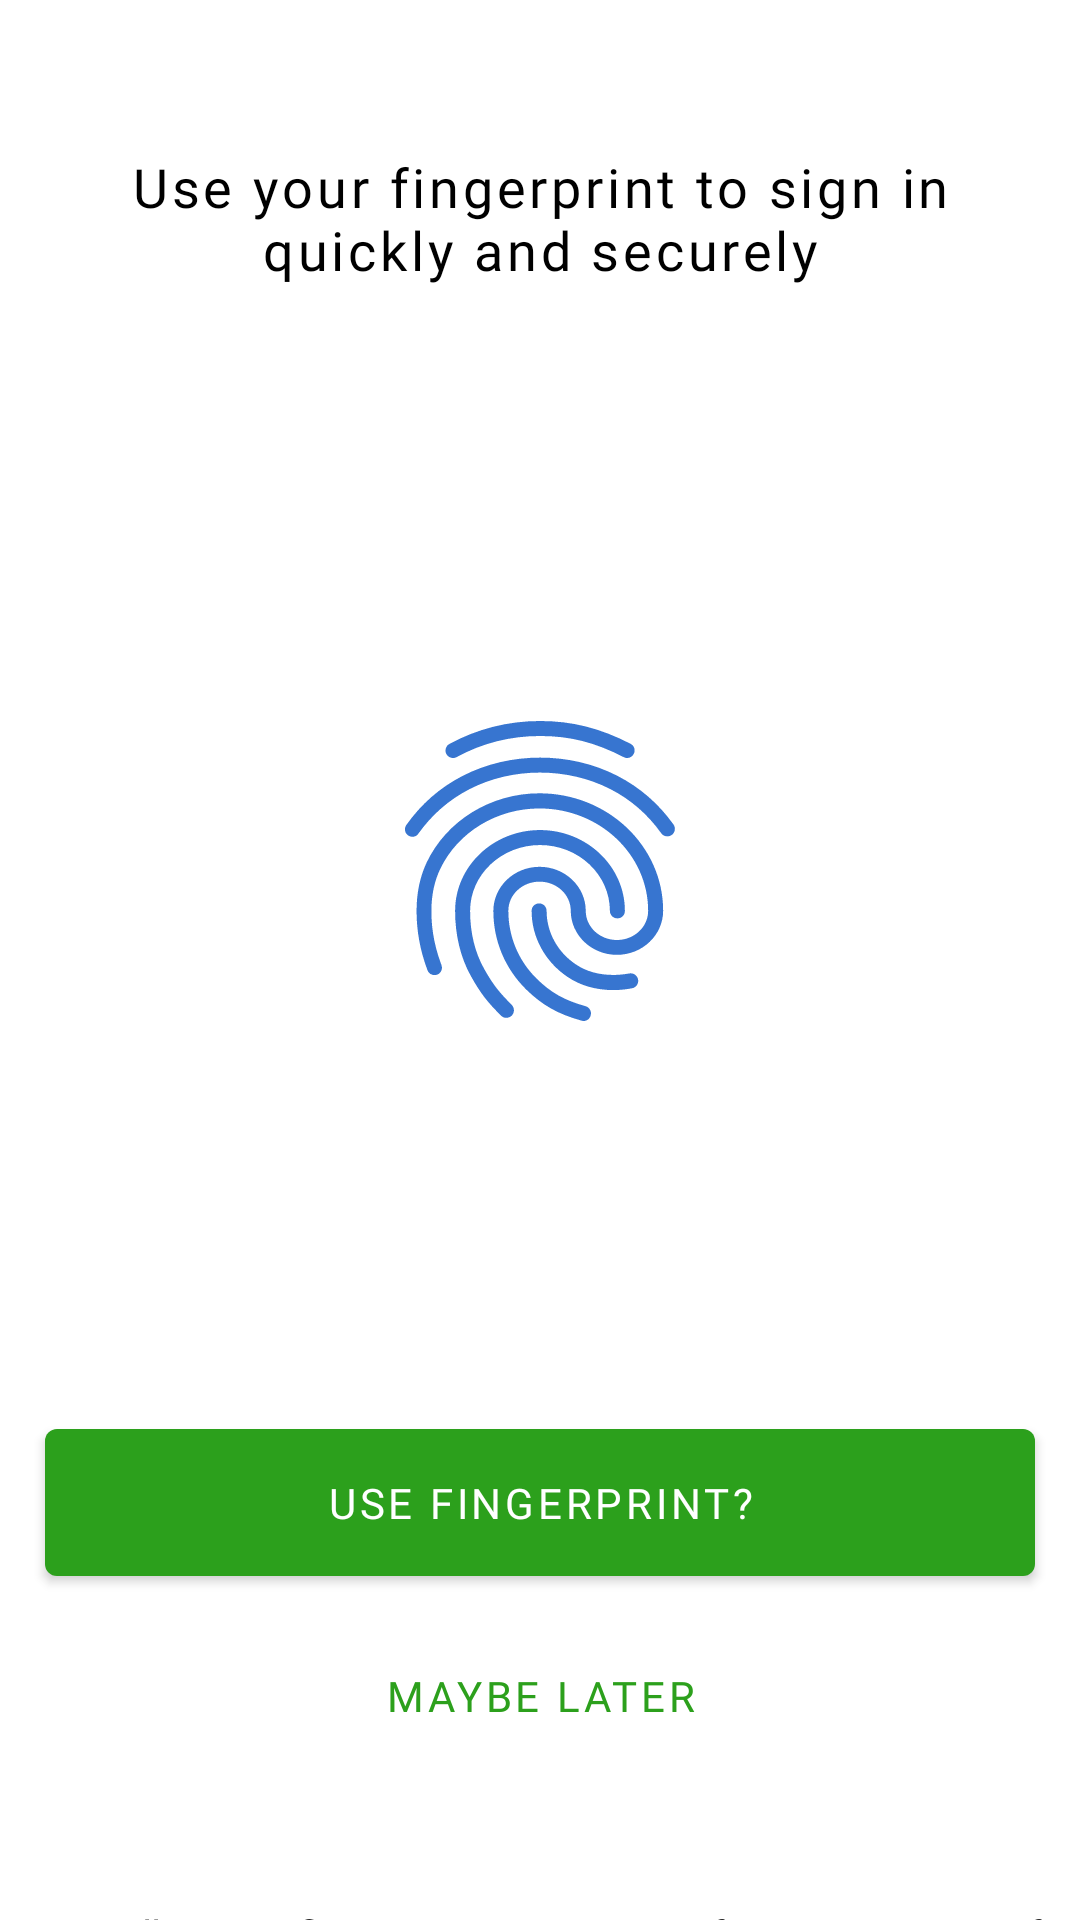

Where icons sit on this 1080px×1920px app screen, as (x1, y1, x2, y2):
fingerprint: (405, 721, 675, 1021)
